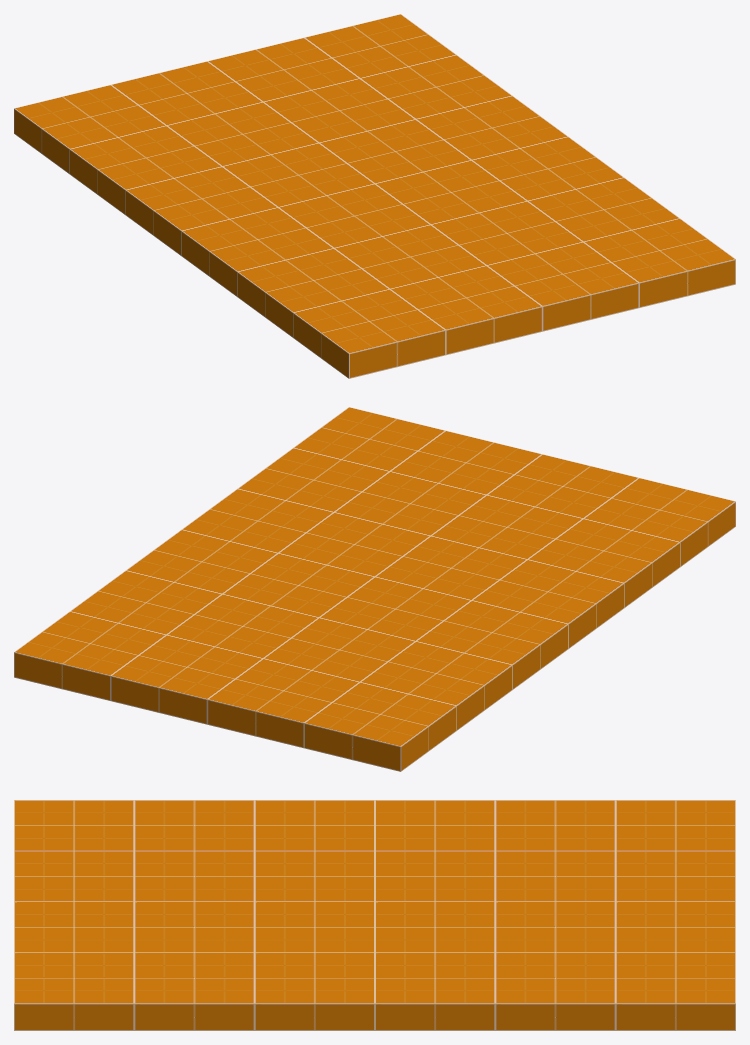
The model's file is Plate4_4x6.obj.
3 views of the same model, one above another, from view 1: azimuth 30°, elevation 25°; view 2: azimuth 150°, elevation 25°; view 3: azimuth 270°, elevation 25° (orthographic). The views are drawn at different scales.
Parts seen in each view (by area): view 1: Plate4_4x6_Cube.342; view 2: Plate4_4x6_Cube.342; view 3: Plate4_4x6_Cube.342.
Part boxes in pixels (bbox=[...]): Plate4_4x6_Cube.342: bbox=[14, 14, 735, 378]; Plate4_4x6_Cube.342: bbox=[14, 407, 735, 771]; Plate4_4x6_Cube.342: bbox=[14, 800, 735, 1030].
Size of the model in its own units: 4 by 0.25 by 6.
Materials: 1 (1 with a texture image).
